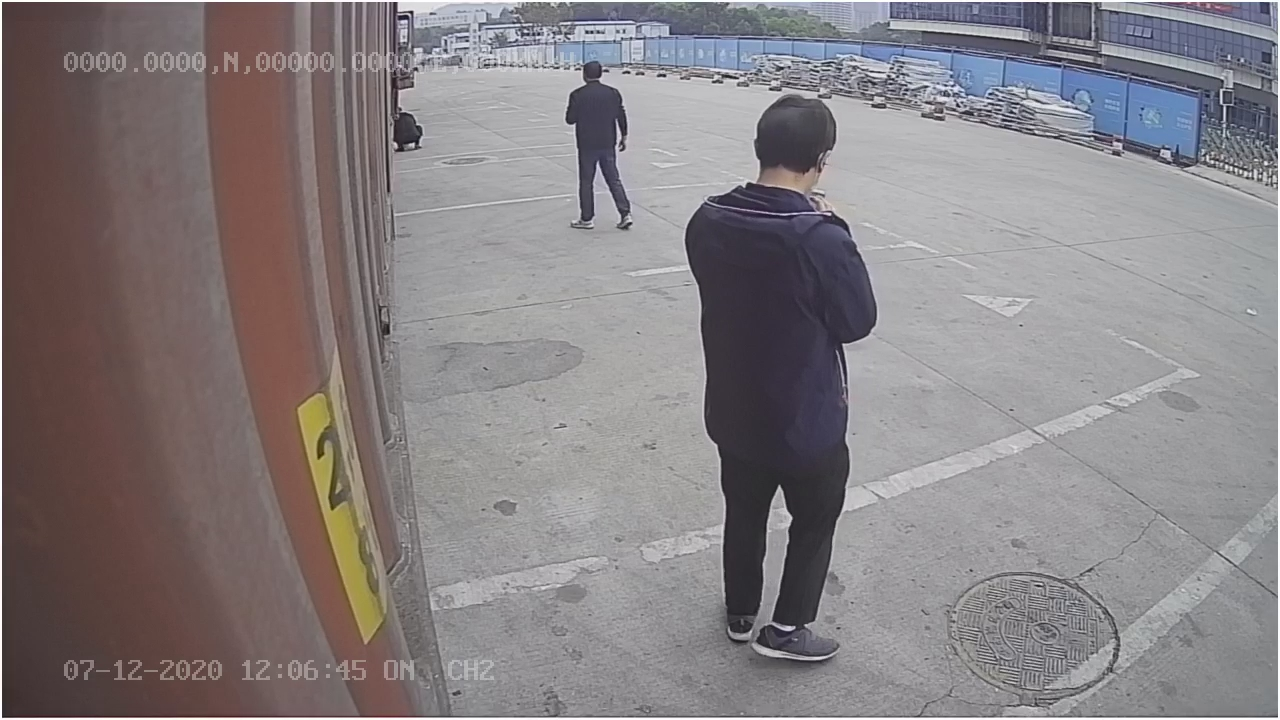person: (686, 90, 883, 667)
